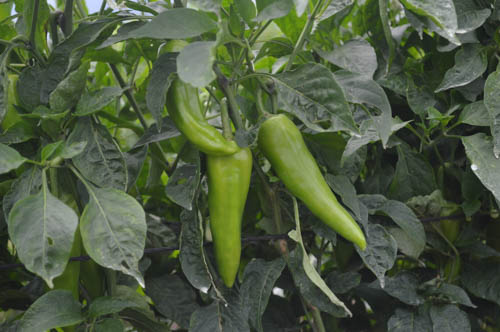ChiliPepper: (261, 116, 367, 255), (158, 40, 235, 155), (208, 143, 250, 290)
